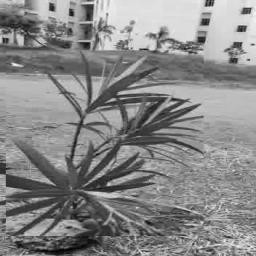OLEANDER: (7, 50, 205, 236)
